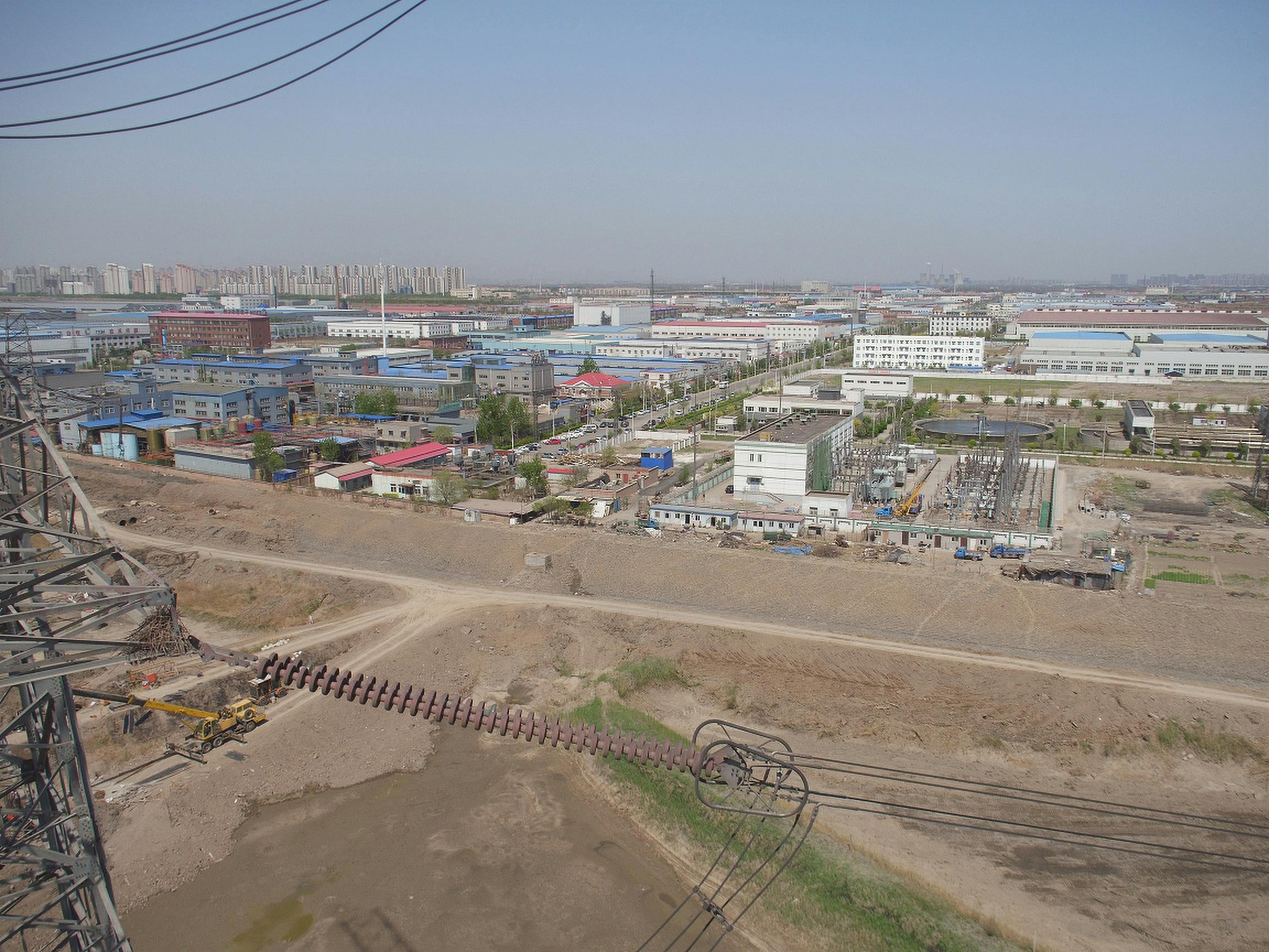insulator: (253, 650, 717, 780)
